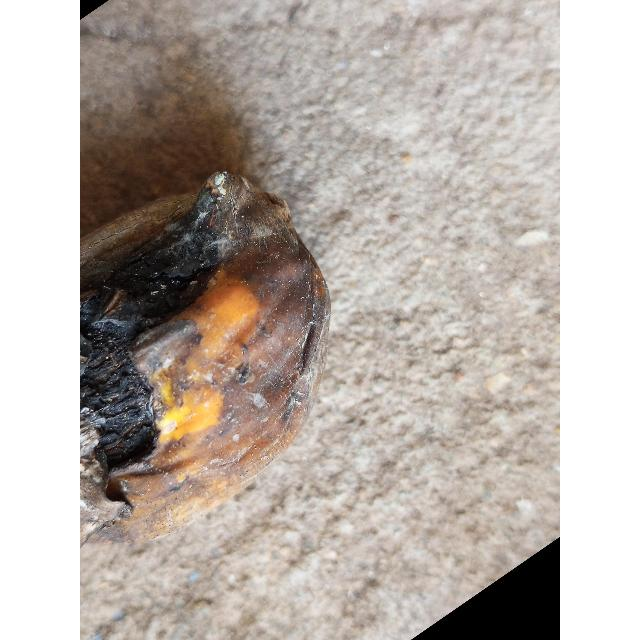damaged: (80, 171, 331, 552)
